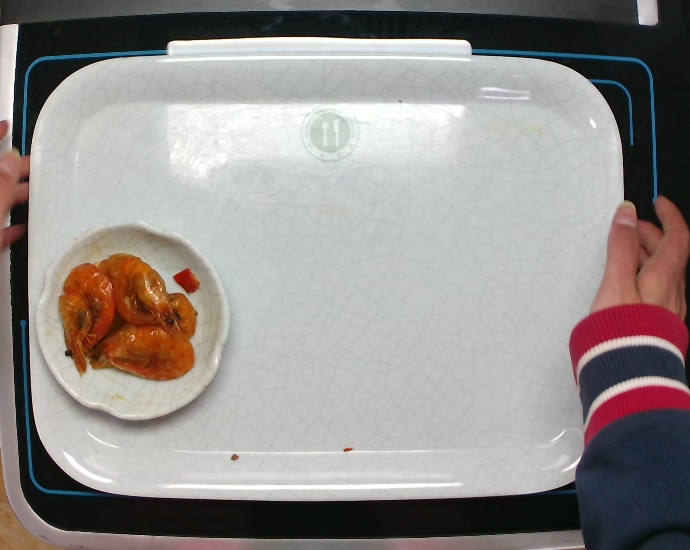JYsf-Ao_Yuan_Wan: (34, 213, 236, 424)
